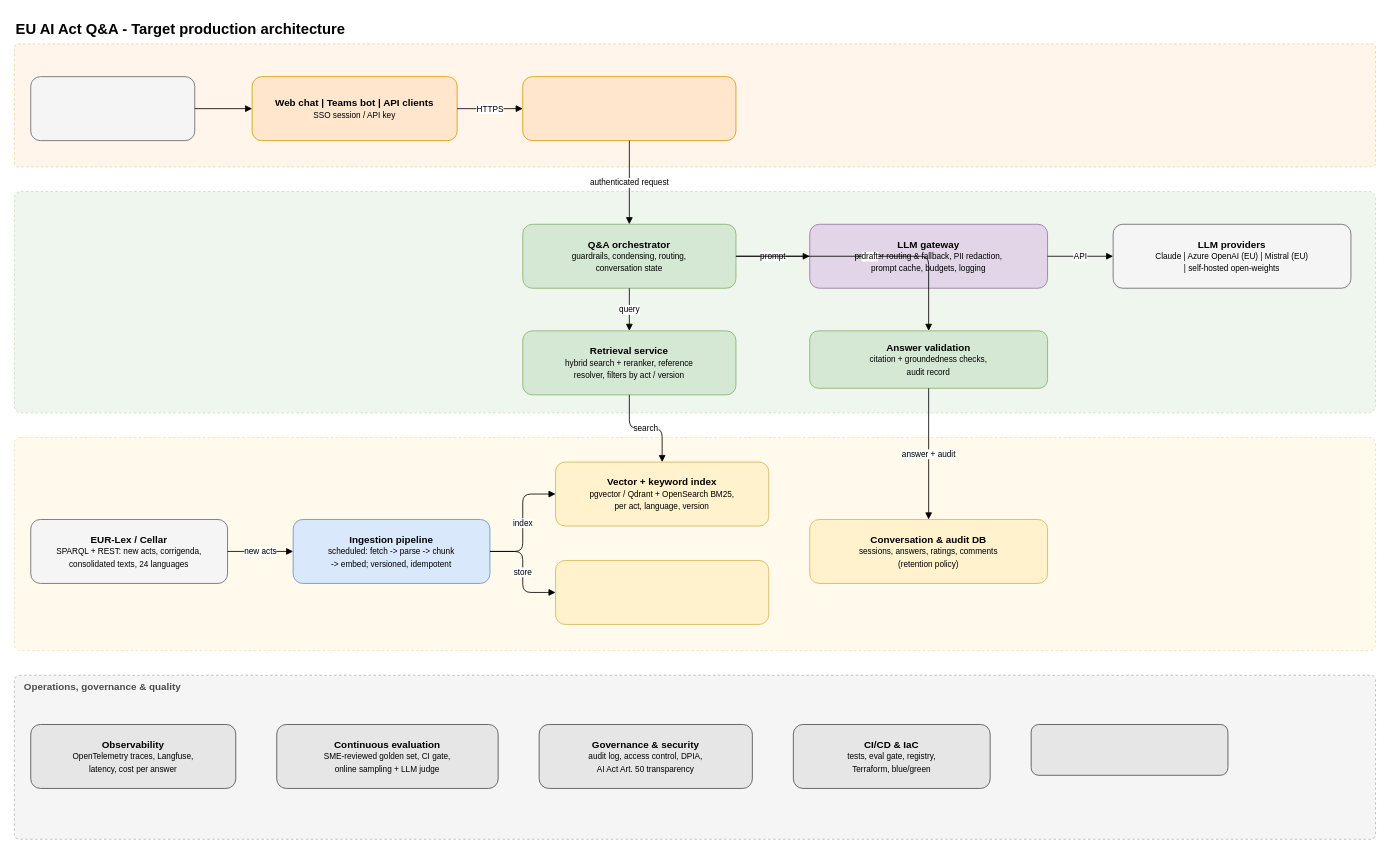
This 1390x854 diagram has some shape labels left out. The shapes that lost their labels are listed below. From the top down, each one's box as (x1, y1, x2, y2) in pixels, then its label:
(30, 76, 195, 141): Users compliance, legal, product teams
(522, 76, 736, 141): API gateway / Traefik TLS, SSO (OIDC / Entra ID), WAF, rate limits, quotas
(14, 43, 1376, 167): Channels & edge
(14, 191, 1376, 413): Q&A services (stateless, autoscaled containers)
(14, 437, 1376, 651): Data & knowledge platform
(555, 560, 769, 624): Document store provisions JSON, snapshots, sha256, validity dates, lineage
(1030, 724, 1228, 775): Secrets & keys Key Vault / Secrets Manager
